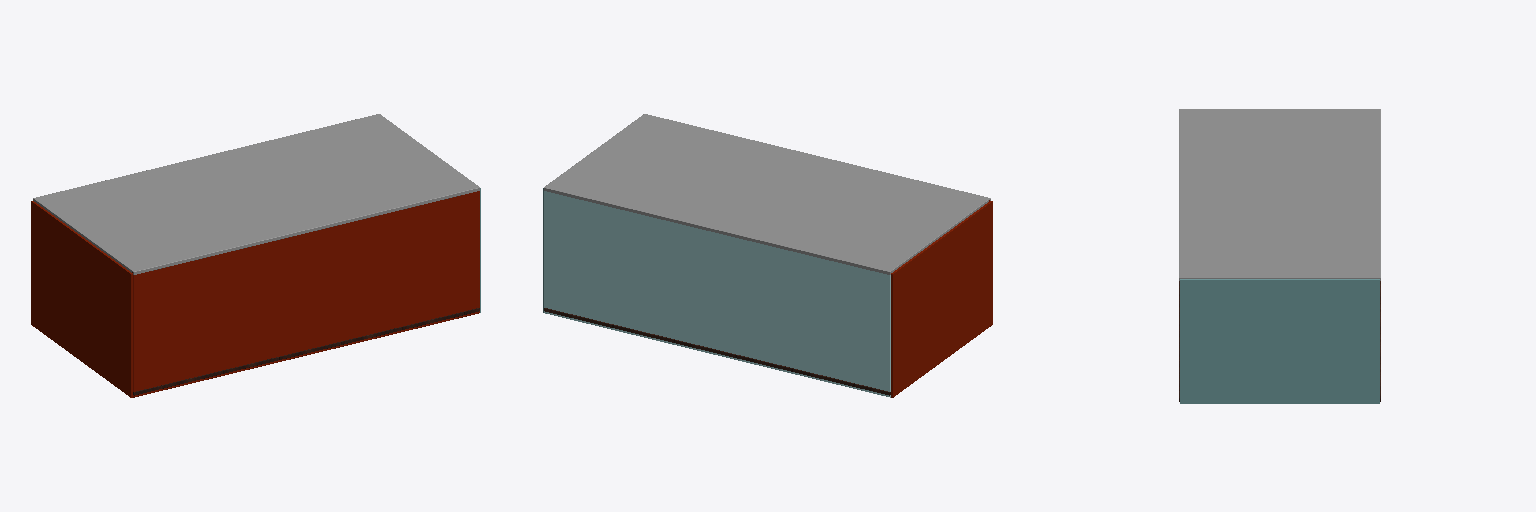
3 views of the same model, side by side, from view 1: azimuth 30°, elevation 25°; view 2: azimuth 150°, elevation 25°; view 3: azimuth 270°, elevation 25° (orthographic).
Size of the model in its own units: 513 by 177 by 257.
Materials: 7 (1 with a texture image).